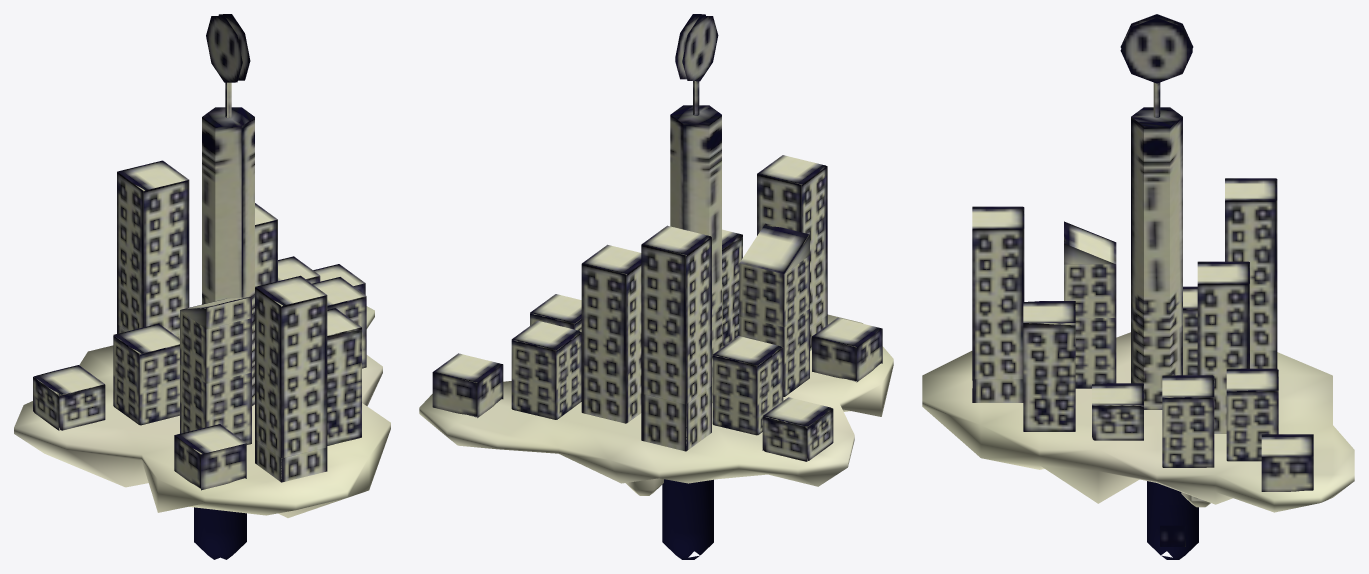
File: artfarmculling3.dae
3 views of the same model, side by side, from view 1: azimuth 30°, elevation 25°; view 2: azimuth 150°, elevation 25°; view 3: azimuth 270°, elevation 25° (orthographic). The views are drawn at different scales.
Visible parts, largest first — view 1: Plane.012, Plane.007, Plane.006, Circle, Plane.008, Plane.010, Plane.003, Plane.009, Plane.011, Circle.002, Circle.003, Plane.002 (+3 smaller); view 2: Plane.012, Plane.006, Plane.002, Plane.008, Circle, Plane.007, Plane.005, Plane.010, Circle.003, Plane.009, Plane.001, Plane.011 (+3 smaller); view 3: Plane.012, Circle, Plane.007, Plane.006, Plane.008, Plane.003, Plane.002, Plane.004, Plane.005, Circle.002, Plane.001, Plane (+3 smaller).
Boxes of the visible parts, bbox=[...] form: Plane.012: bbox=[14, 306, 390, 517]; Plane.007: bbox=[255, 275, 327, 482]; Plane.006: bbox=[117, 160, 189, 338]; Circle: bbox=[202, 107, 254, 405]; Plane.008: bbox=[180, 297, 251, 444]; Plane.010: bbox=[113, 323, 179, 425]; Plane.003: bbox=[327, 308, 361, 445]; Plane.009: bbox=[33, 365, 105, 430]; Plane.011: bbox=[174, 424, 246, 490]; Circle.002: bbox=[206, 14, 250, 82]; Circle.003: bbox=[194, 507, 246, 559]; Plane.002: bbox=[255, 203, 277, 286]; Plane.012: bbox=[419, 314, 893, 486]; Plane.006: bbox=[641, 225, 711, 451]; Plane.002: bbox=[581, 244, 641, 423]; Plane.008: bbox=[739, 223, 809, 396]; Circle: bbox=[670, 105, 721, 402]; Plane.007: bbox=[757, 155, 827, 350]; Plane.005: bbox=[511, 320, 581, 419]; Plane.010: bbox=[712, 336, 783, 435]; Circle.003: bbox=[662, 479, 713, 559]; Plane.009: bbox=[762, 397, 833, 461]; Plane.001: bbox=[432, 353, 503, 417]; Plane.011: bbox=[812, 317, 882, 382]; Plane.012: bbox=[922, 332, 1354, 512]; Circle: bbox=[1131, 107, 1182, 409]; Plane.007: bbox=[972, 206, 1024, 402]; Plane.006: bbox=[1225, 178, 1277, 368]; Plane.008: bbox=[1064, 221, 1116, 388]; Plane.003: bbox=[1023, 301, 1075, 431]; Plane.002: bbox=[1197, 261, 1249, 433]; Plane.004: bbox=[1162, 375, 1214, 467]; Plane.005: bbox=[1226, 368, 1278, 461]; Circle.002: bbox=[1120, 14, 1193, 83]; Plane.001: bbox=[1261, 434, 1313, 491]; Plane: bbox=[1092, 383, 1143, 440].
Size of the model in its own units: 17.08 by 16.58 by 22.92.
1 material, 1 textured.
